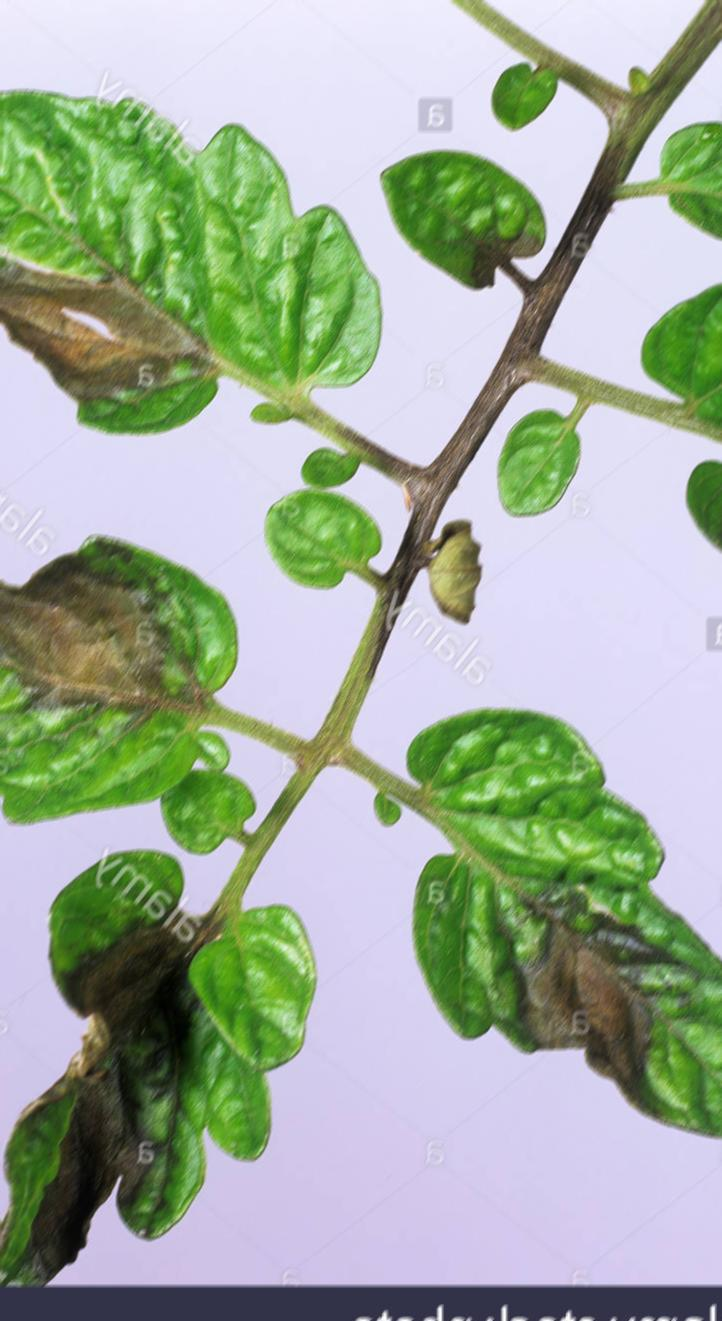Tomato leaf late blight: (378, 690, 722, 1166), (0, 63, 389, 444), (0, 832, 331, 1261), (0, 532, 251, 858)
